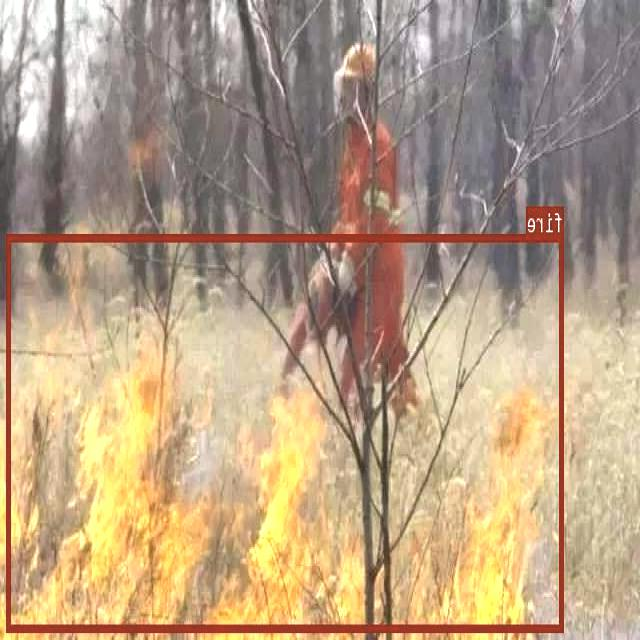fire: (7, 234, 564, 632)
